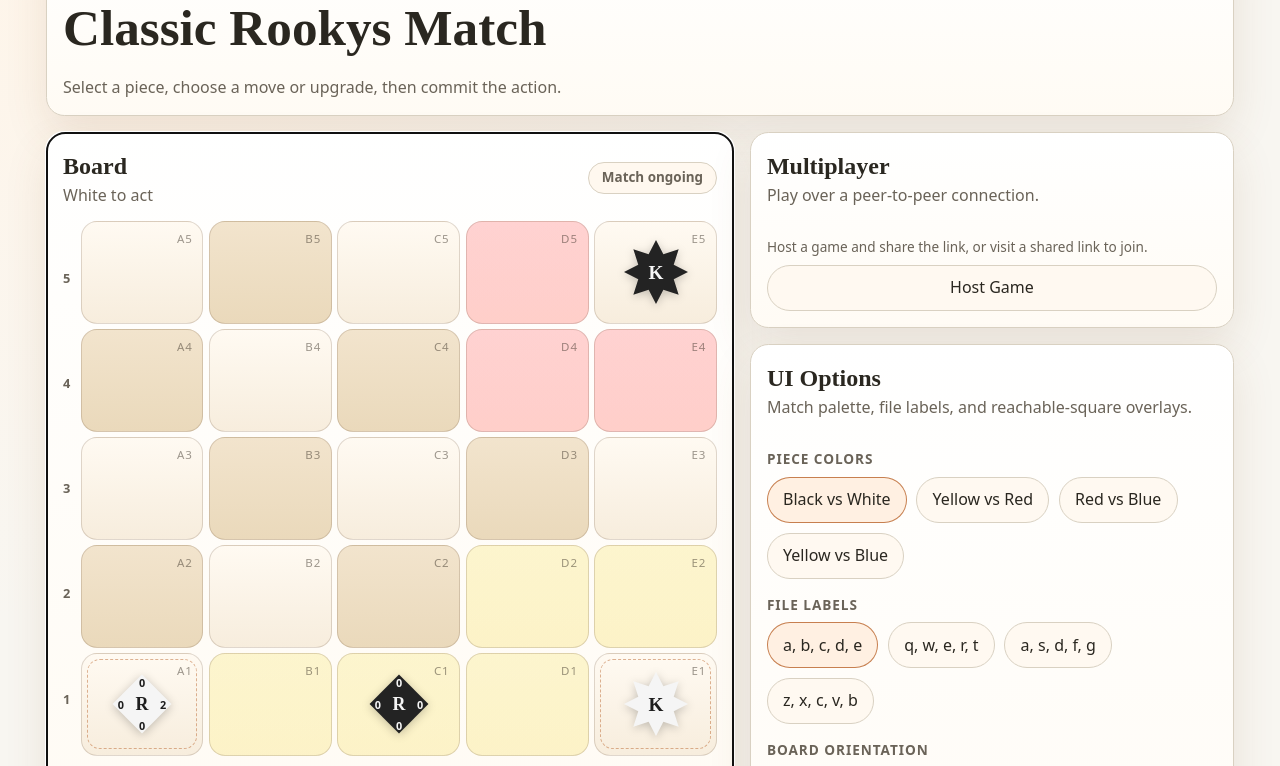
App › logs capture details when a move takes an opposing piece
The image size is (1280, 766).
(page scrolled)
Click the cell named "Square a1, white rooky" at x=142, y=704, box [81,653,204,756]
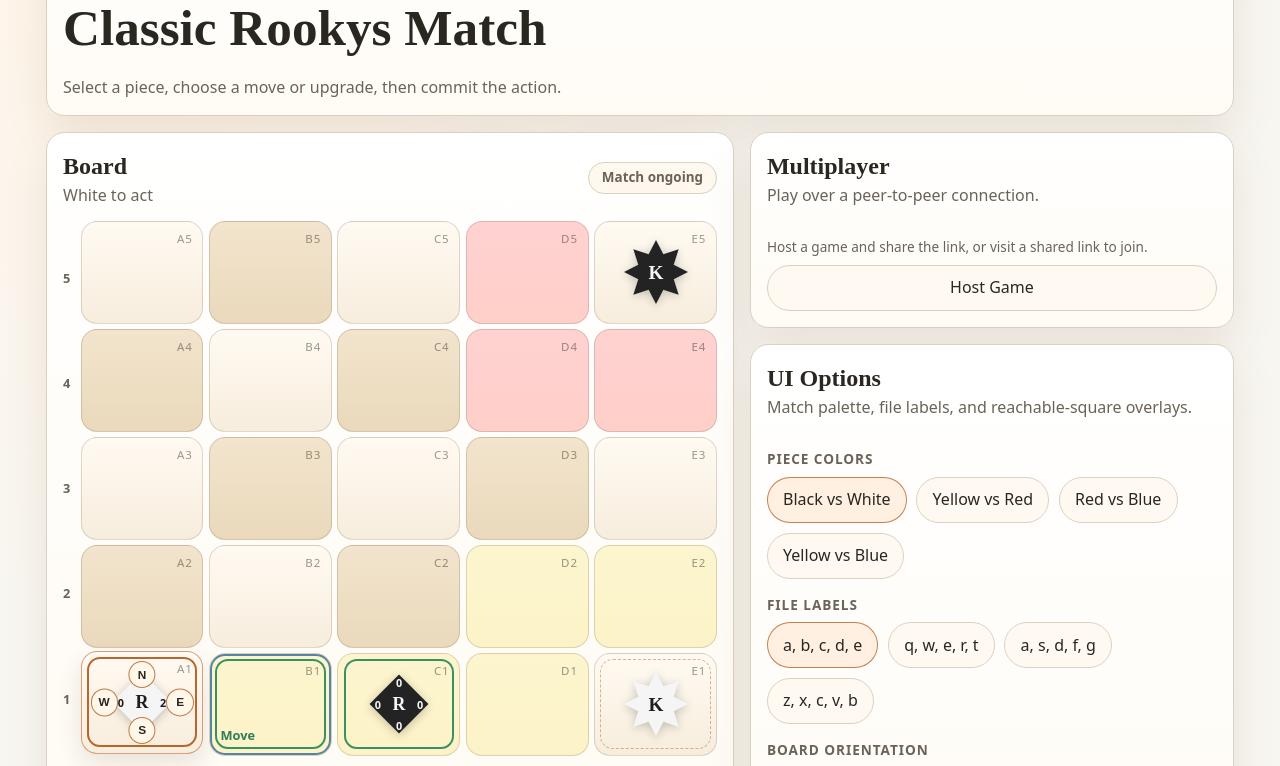
Click the cell named "Square c1, black rooky" at x=399, y=704, box [337,653,460,756]
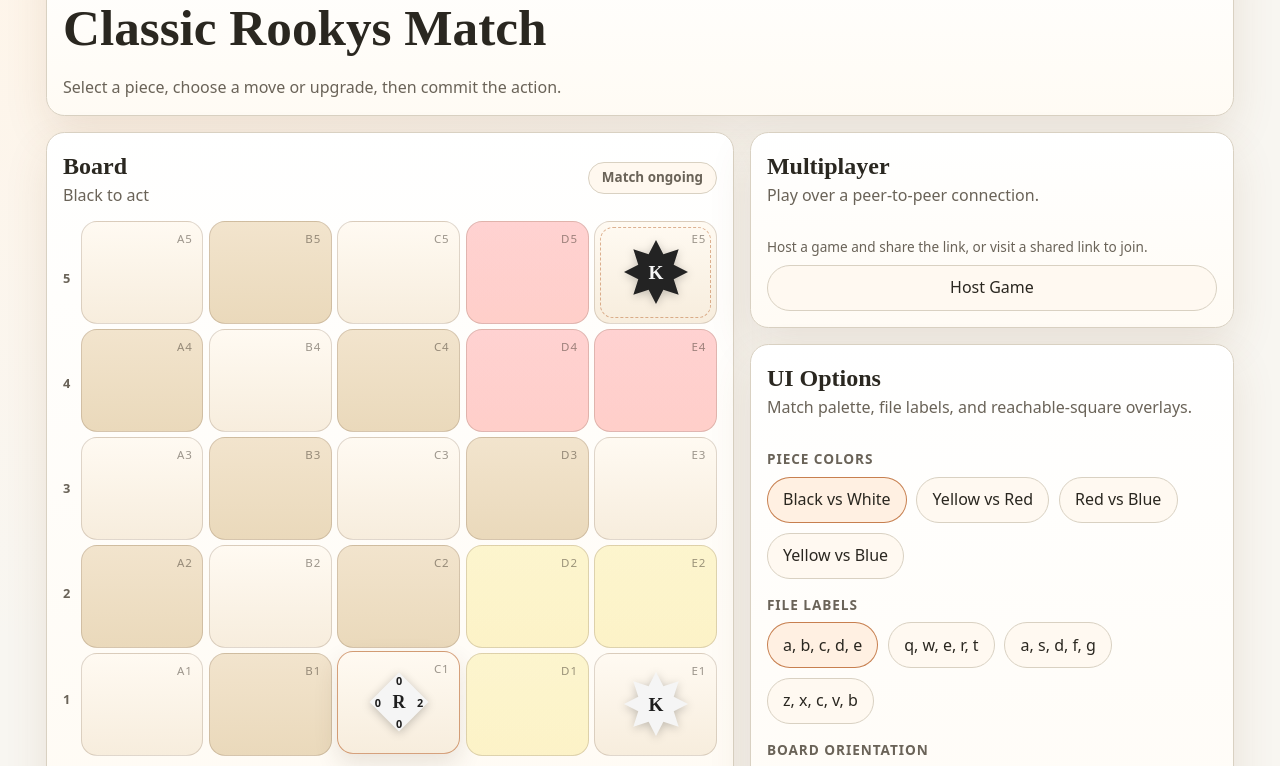
Result: the cell named "Square c1, white rooky" is shown at [337,651,460,754]
